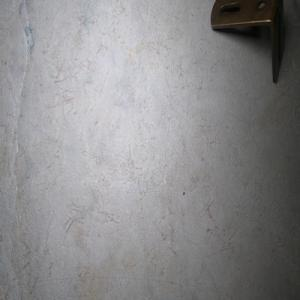MetalPart: (209, 0, 285, 86)
